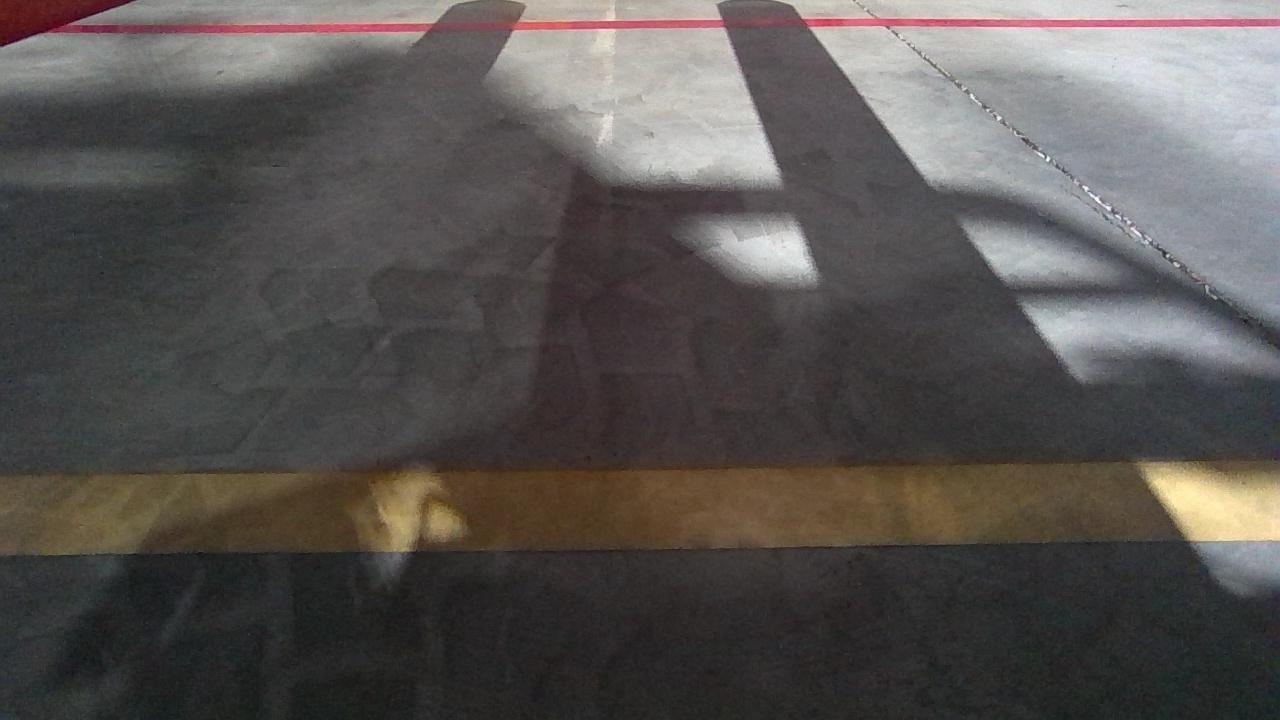red_line: (53, 15, 1278, 34)
yellow_line: (1, 471, 1280, 539)
